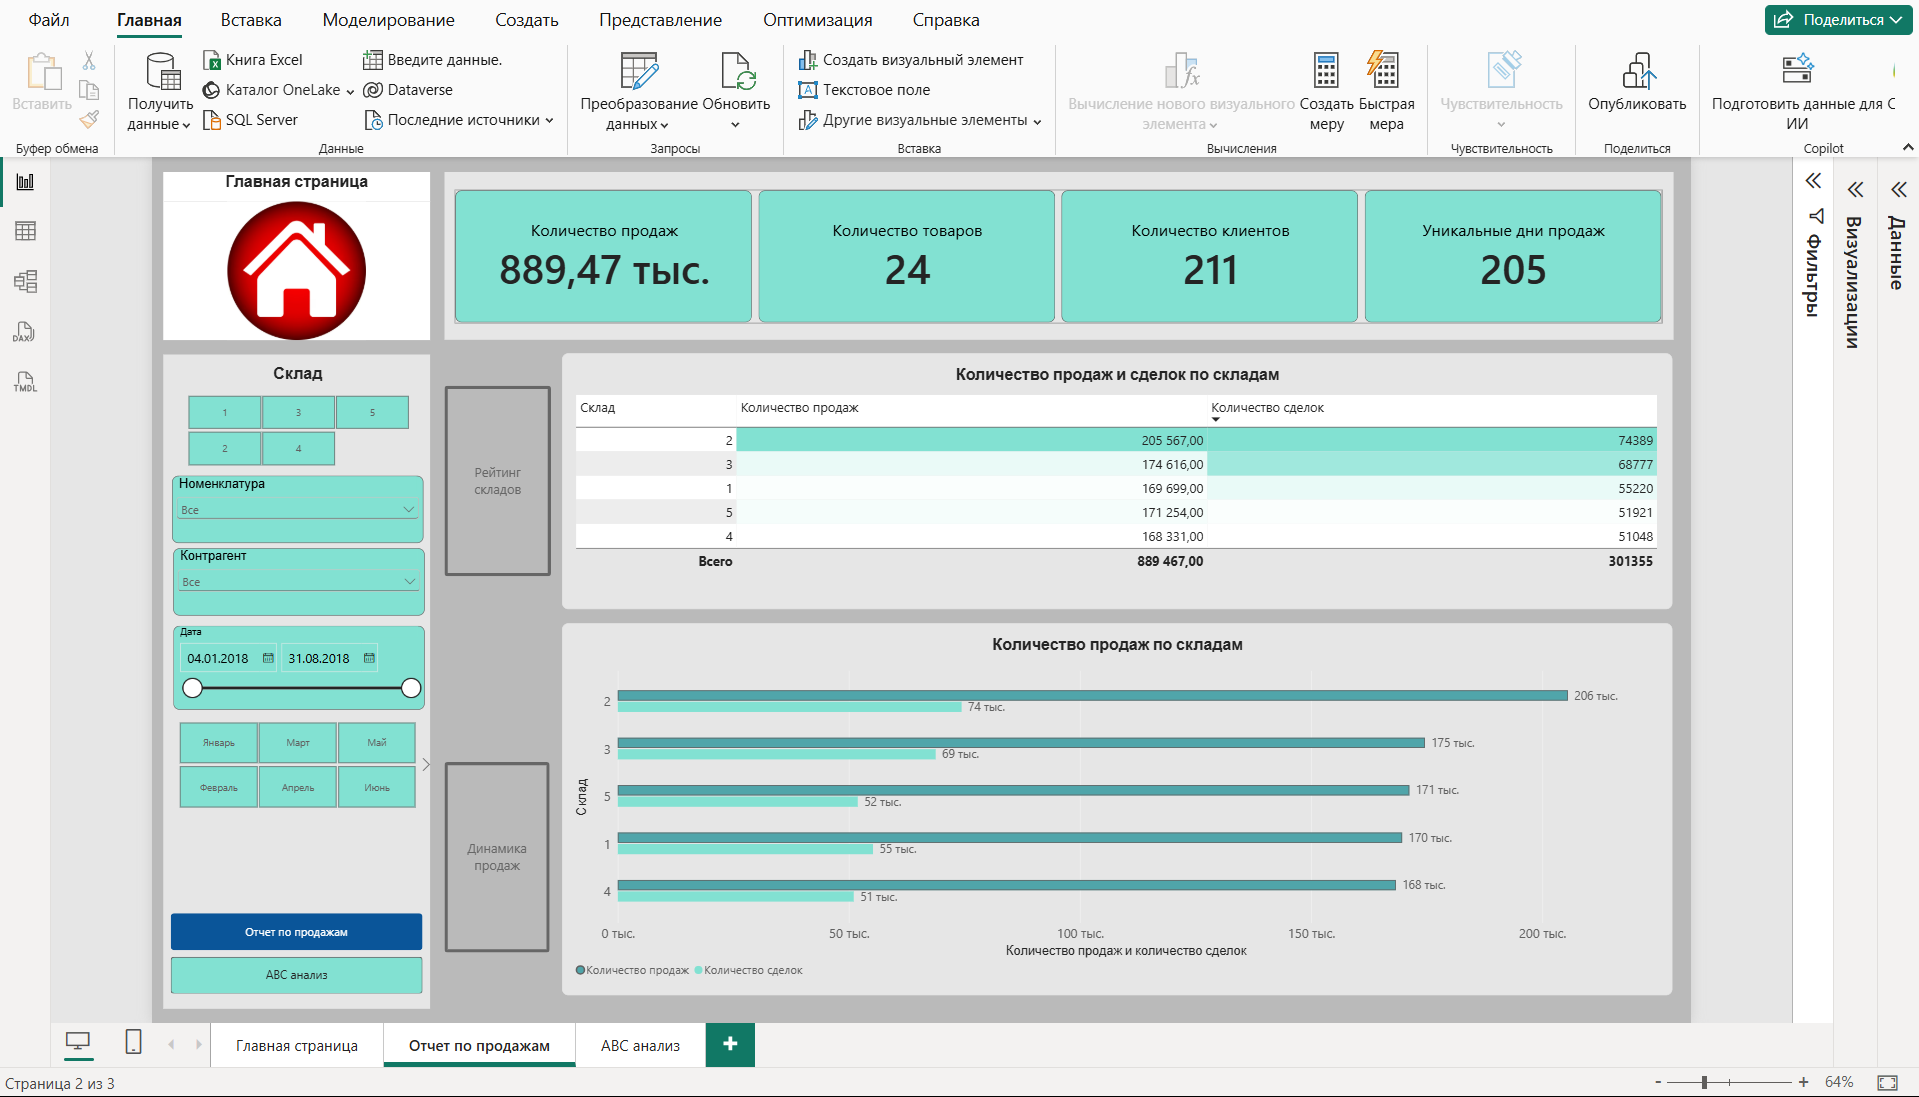

Layout of this report page (visuals, bound fields, positions):
{"tool":"powerbi","page":{"name":"Отчет по продажам","canvas":[1920,1080],"ordinal":1},"visuals":[{"type":"shape","box":[364.5,19.2,1533.1,209.3],"z":0},{"type":"shape","box":[14,245.9,333.1,816.3],"z":1000},{"type":"cardVisual","fields":{"Data":["Sum(data.Количество)","Count(data.Номенклатура)","Count(data.Контрагент)","Count(data.Дата)"]},"box":[376.7,40.1,1508.7,167.4],"z":2000},{"type":"image","title":"Главная страница","box":[14,19.2,333.1,209.3],"z":3000},{"type":"slicer","fields":{"Values":["data.Номенклатура"]},"box":[24.4,397.7,314,83.7],"z":4000},{"type":"slicer","fields":{"Values":["data.Контрагент"]},"box":[26.2,488.4,314,83.7],"z":5000},{"type":"slicer","fields":{"Values":["data.Дата"]},"box":[26.2,584.3,314,104.7],"z":6000},{"type":"slicer","fields":{"Values":["data.Дата.Изменение.Иерархия дат.Месяц"]},"box":[14,702.4,333.7,110.1],"z":7000},{"type":"pageNavigator","box":[22.7,943.6,314.5,101.3],"z":8000},{"type":"slicer","title":"Склад","fields":{"Values":["data.Склад"]},"box":[24.4,258.1,314,127.3],"z":9000},{"type":"tableEx","title":"Количество продаж и сделок по складам","fields":{"Values":["data.Склад","Sum(data.Количество)","CountNonNull(data.Количество)"]},"box":[511,244.2,1384.9,319.2],"z":10000},{"type":"clusteredBarChart","title":"Количество продаж по складам","fields":{"Category":["data.Склад"],"Y":["Sum(data.Количество)","CountNonNull(data.Количество)"]},"box":[511,580.8,1384.9,464],"z":11000},{"type":"actionButton","box":[365.2,284.8,132.8,237.6],"z":13000},{"type":"actionButton","box":[365.2,754.9,131.1,237.6],"z":14000}]}

Visuals, with their boxes on the page's 1920x1080 design canvas (x1, y1, x2, y2). These are canvas units, not pixel positions in the 1919x1097 screenshot, which may show the page scaled, cropped or inside an application window:
shape: Rect(364, 19, 1898, 228)
shape: Rect(14, 246, 347, 1062)
cardVisual - Sum(data.Количество) x Count(data.Номенклатура): Rect(377, 40, 1885, 208)
"Главная страница" image: Rect(14, 19, 347, 228)
slicer - data.Номенклатура: Rect(24, 398, 338, 481)
slicer - data.Контрагент: Rect(26, 488, 340, 572)
slicer - data.Дата: Rect(26, 584, 340, 689)
slicer - data.Дата.Изменение.Иерархия дат.Месяц: Rect(14, 702, 348, 812)
pageNavigator: Rect(23, 944, 337, 1045)
"Склад" slicer: Rect(24, 258, 338, 385)
"Количество продаж и сделок по складам" tableEx: Rect(511, 244, 1896, 563)
"Количество продаж по складам" clusteredBarChart: Rect(511, 581, 1896, 1045)
actionButton: Rect(365, 285, 498, 522)
actionButton: Rect(365, 755, 496, 992)
